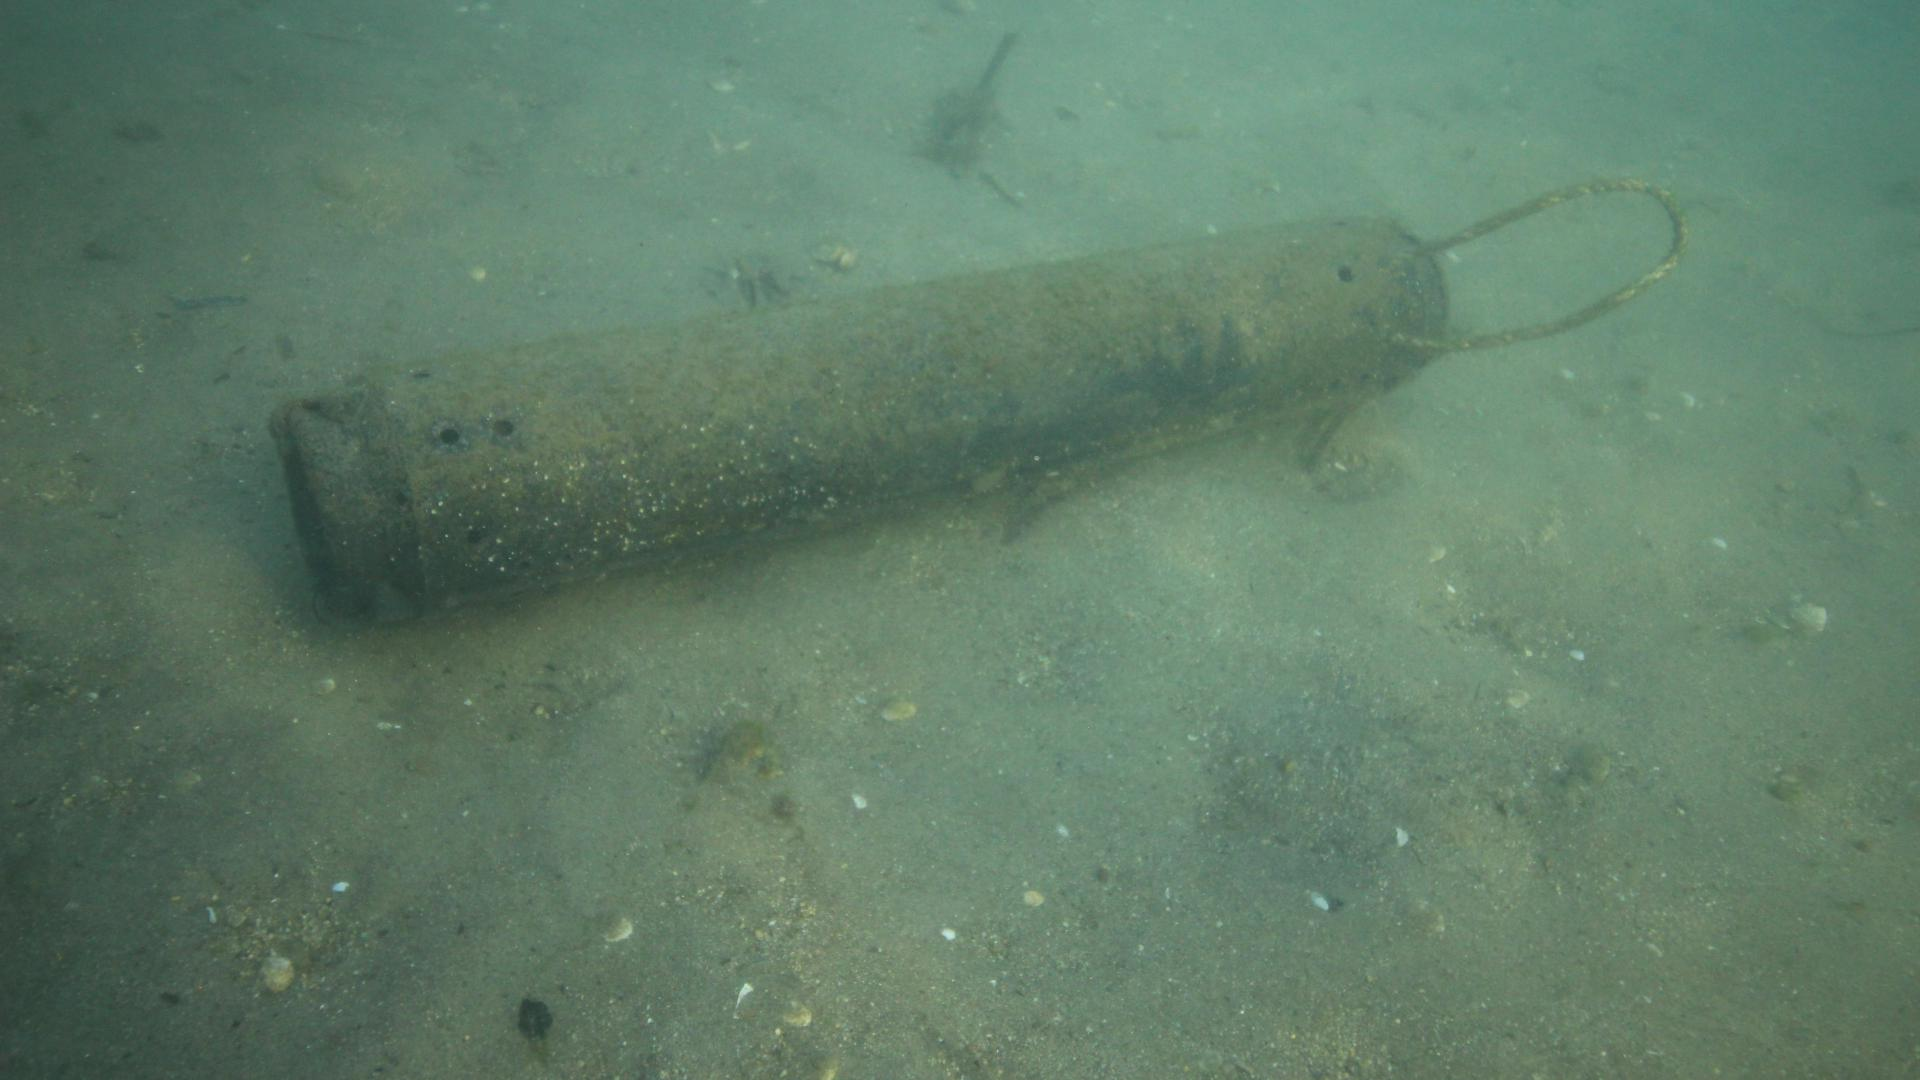eel fish trap: (270, 211, 1447, 622)
rope: (1375, 175, 1689, 348)
